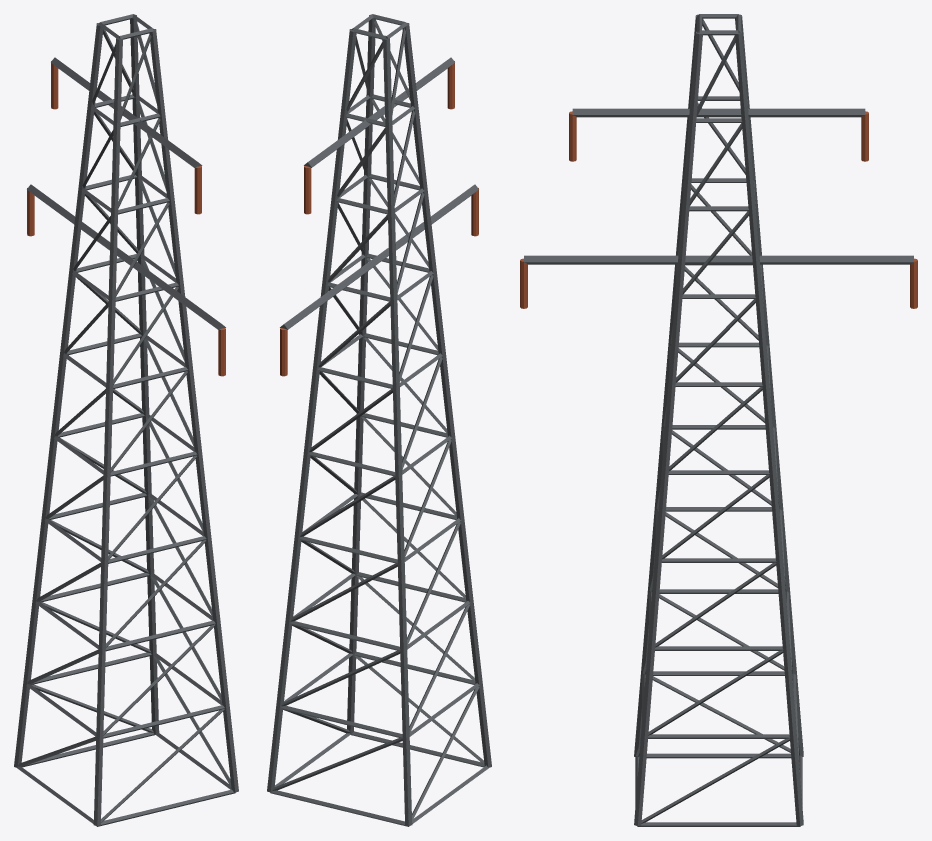
File: pv_stozar_vn.glb
3 renders of one model, left to right at view 1: azimuth 30°, elevation 25°; view 2: azimuth 150°, elevation 25°; view 3: azimuth 270°, elevation 25°, orthographic.
Parts seen in each view (by area): view 1: dum; view 2: dum; view 3: dum.
Part boxes in pixels (left/top/right/bottom): dum: left=14, top=14, right=238, bottom=826; dum: left=267, top=14, right=491, bottom=826; dum: left=520, top=14, right=917, bottom=826.
Bounding box in the file's own units: 5.24 × 26.09 × 12.21.
Materials: 1 (1 with a texture image).
